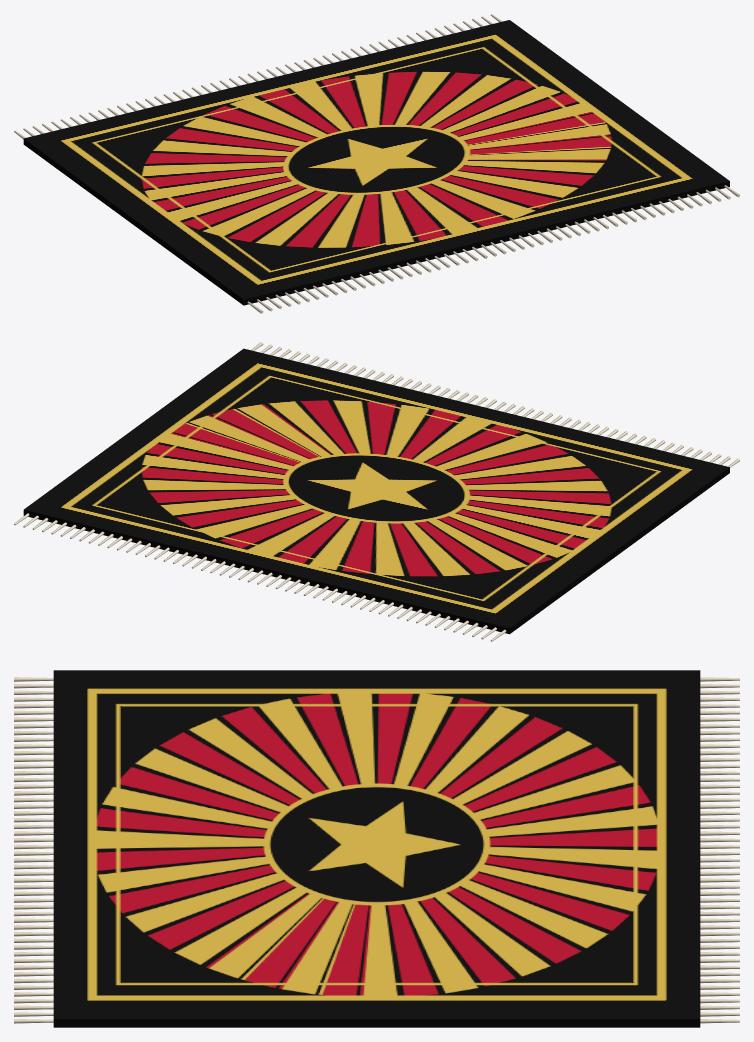
File: carpet_vegas.glb
The picture shows the model from 3 angles, top to bottom: view 1: azimuth 30°, elevation 25°; view 2: azimuth 150°, elevation 25°; view 3: azimuth 270°, elevation 25°; orthographic projection. The views are drawn at different scales.
Visible parts, largest first — view 1: carpet; view 2: carpet; view 3: carpet.
Part boxes in pixels (box(x1,y1,x2,y2)): carpet: box(23, 20, 729, 305); carpet: box(23, 348, 729, 634); carpet: box(53, 670, 700, 1027).
Bounding box in the file's own units: 1.02 × 0.012 × 0.898.
Materials: 3 (1 with a texture image).
